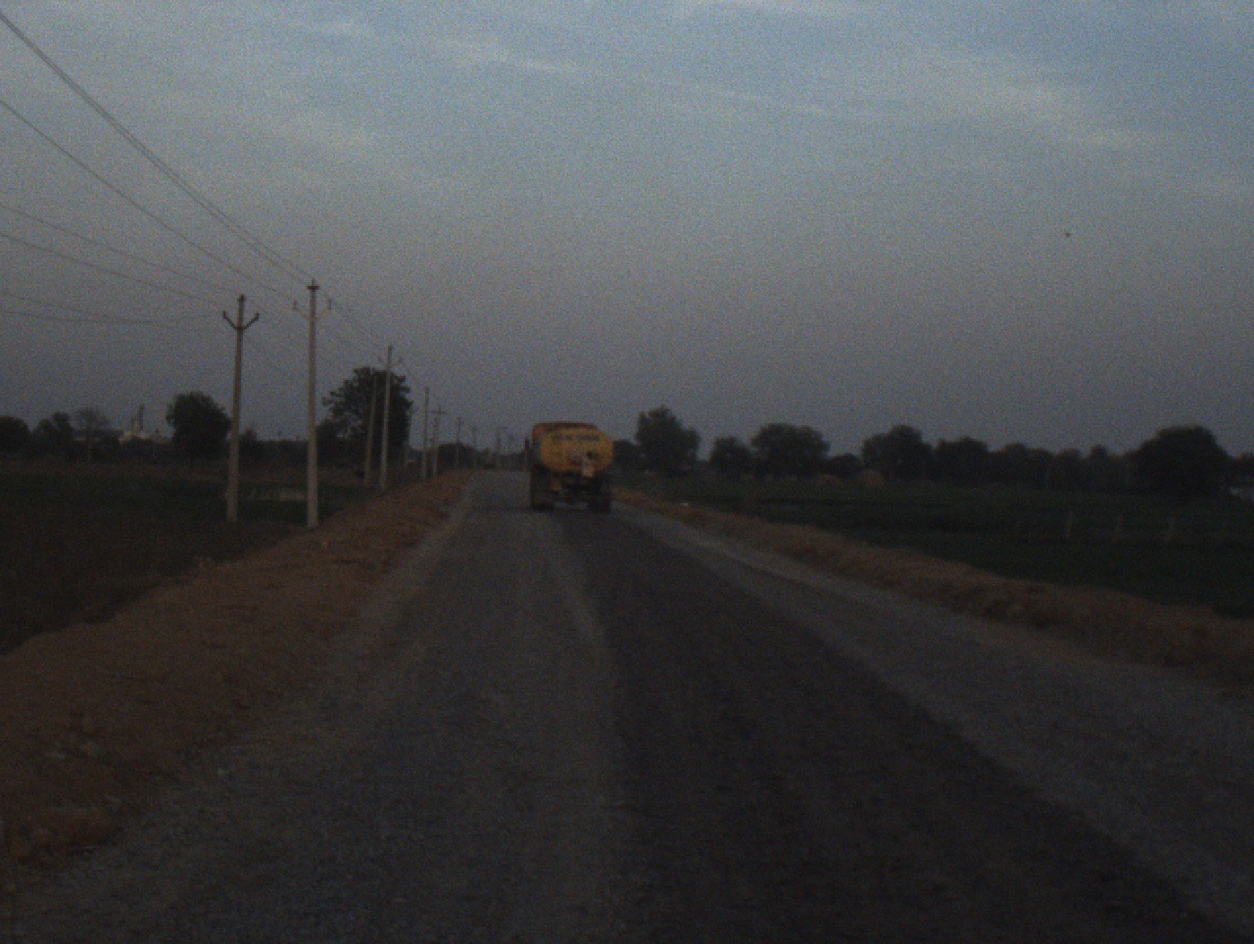rider: (574, 446, 604, 513)
truck: (524, 418, 621, 518)
